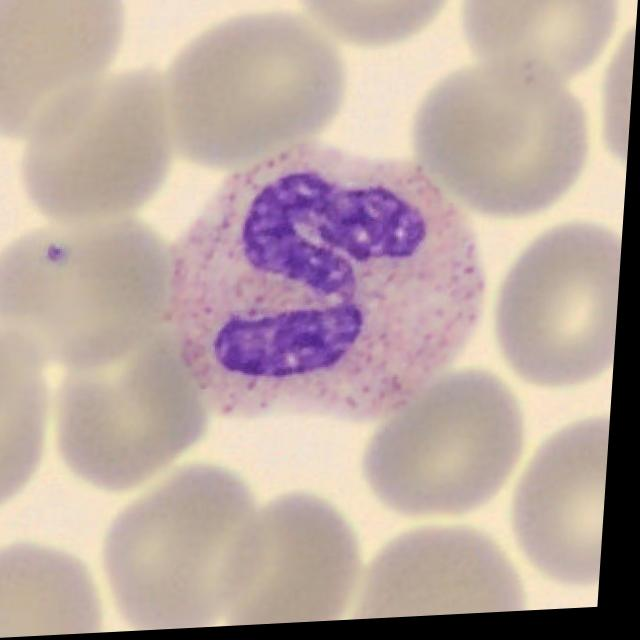Neutrofilo segmentado: (170, 148, 490, 426)
